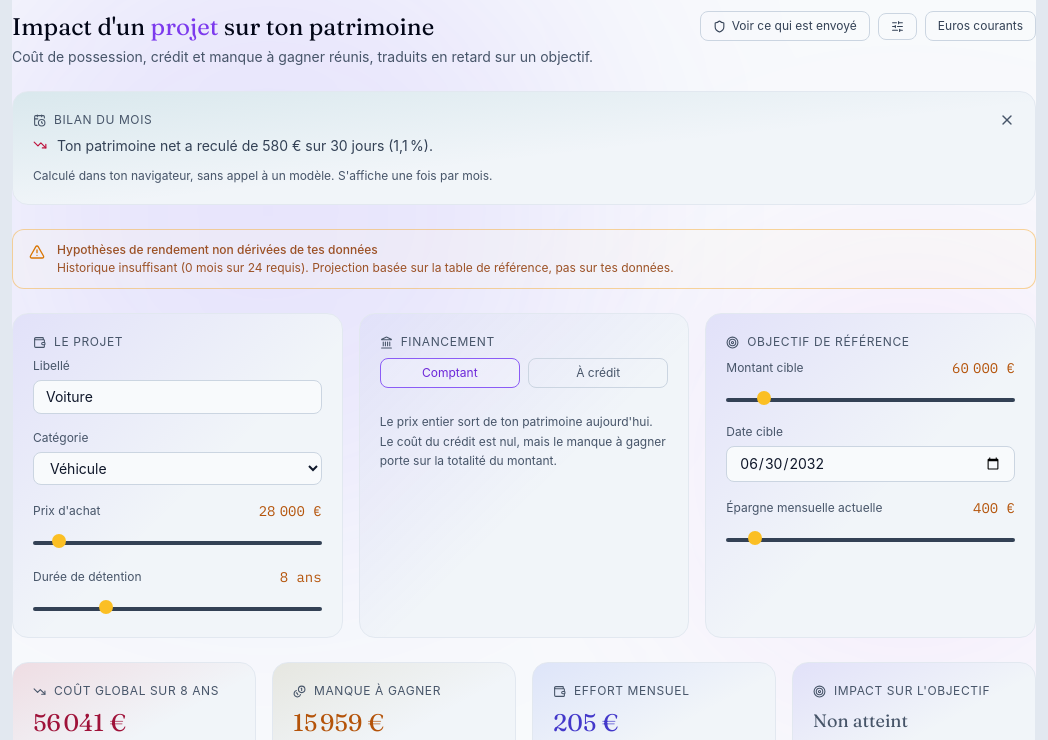
Scenario: Projet › répercute le libellé du projet dans la légende du graphique
The width and height of the screenshot is (1048, 740).
Replace the text in the field showing "Voiture" with "Van" at x=177, y=397, box [33,380,322,414]
(page scrolled)
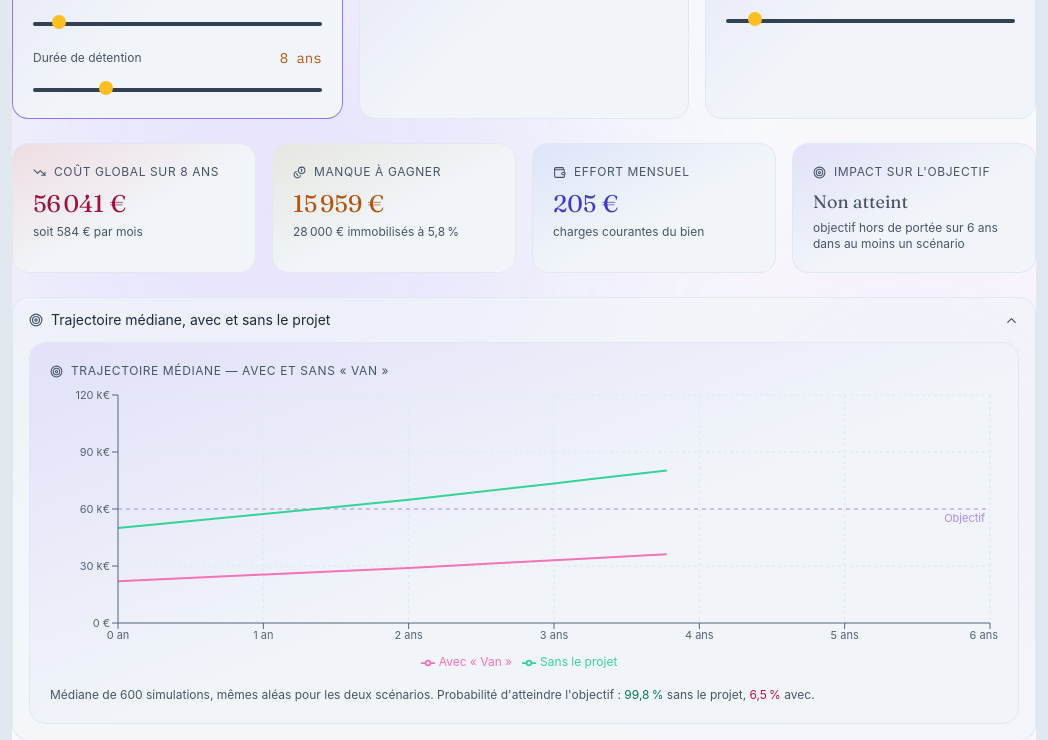
Expected: the text "Trajectoire médiane — avec et sans « Van »" is shown, [71,363,389,379]
